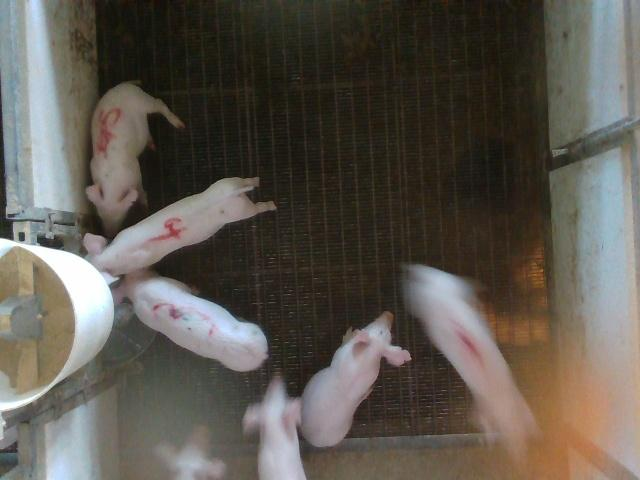pig-1: (402, 264, 539, 461)
pig-3: (112, 269, 268, 371)
pig-4: (84, 178, 276, 282)
pig-5: (86, 82, 184, 237)
